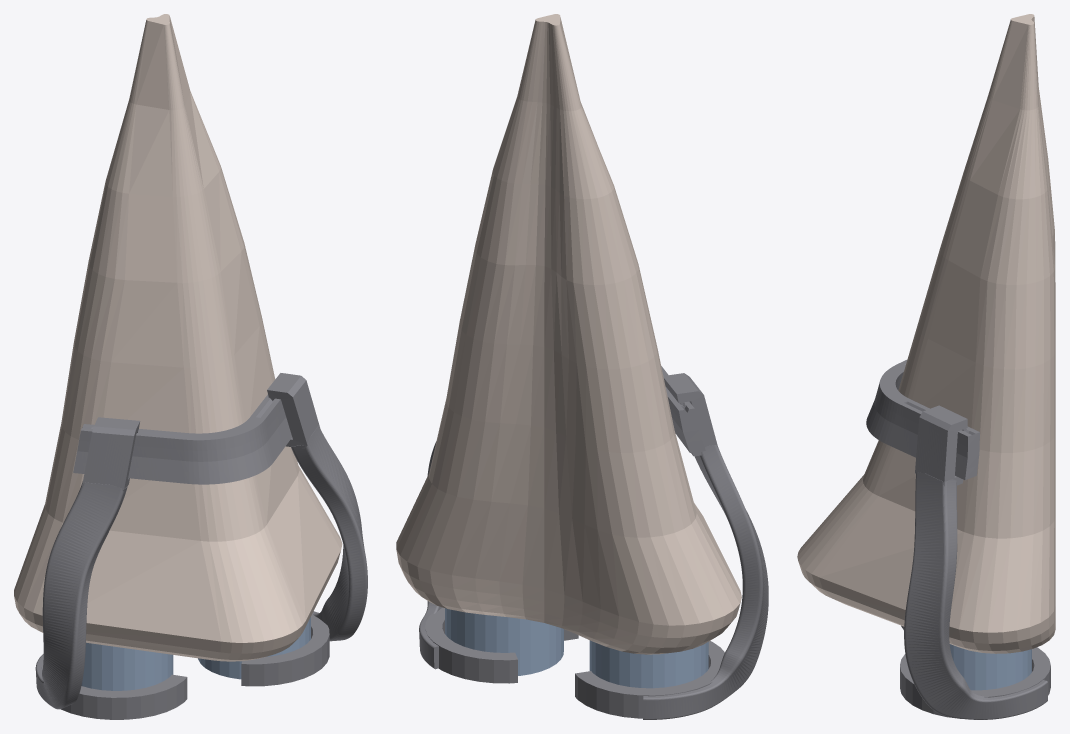
The model's file is connector_cuff.glb.
3 renders of one model, left to right at view 1: azimuth 30°, elevation 25°; view 2: azimuth 150°, elevation 25°; view 3: azimuth 270°, elevation 25°, orthographic. The views are drawn at different scales.
Parts seen in each view (by area): view 1: body, frame_leg_left, frame_leg_right, frame_bridge, plug_left, plug_right; view 2: body, frame_leg_left, plug_right, plug_left, frame_leg_right, frame_bridge; view 3: body, frame_leg_right, frame_bridge, plug_right.
Part boxes in pixels (<box>): body: <box>14,14,342,661</box>; frame_leg_left: <box>35,417,187,719</box>; frame_leg_right: <box>241,373,367,686</box>; frame_bridge: <box>73,394,291,484</box>; plug_left: <box>81,642,173,690</box>; plug_right: <box>198,617,310,679</box>; body: <box>396,14,741,654</box>; frame_leg_left: <box>575,373,768,719</box>; plug_right: <box>445,608,563,675</box>; plug_left: <box>589,640,708,688</box>; frame_leg_right: <box>419,441,578,683</box>; frame_bridge: <box>661,366,705,452</box>; body: <box>797,14,1055,653</box>; frame_leg_right: <box>900,405,1050,719</box>; frame_bridge: <box>866,360,979,480</box>; plug_right: <box>949,644,1031,690</box>.
Bounding box in the file's own units: 32.46 × 61.8 × 22.75.
